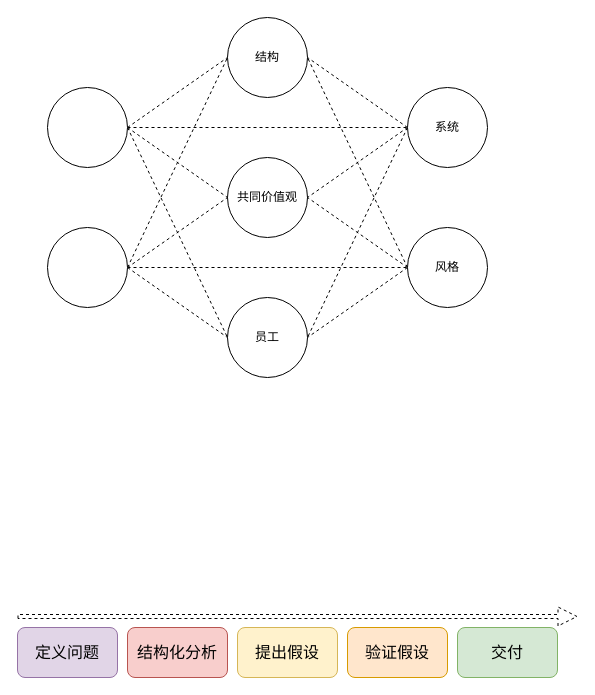
This 595x695 diagram has some shape labels left out. The shapes that lost their labels are listed below. From the top down, each one's box as (x1, y1, x2, y2) in pixels, then its label:
(46, 86, 128, 168): 战略
(46, 226, 128, 308): 能力
